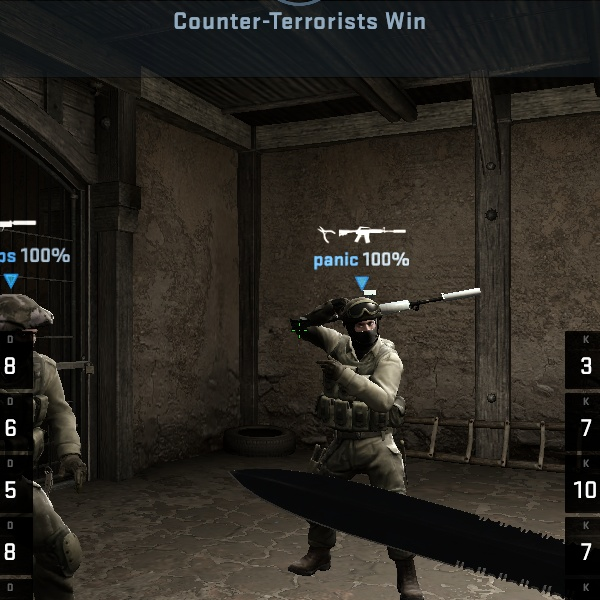ct_body: (286, 281, 432, 591), (2, 281, 122, 600)
ct_head: (0, 287, 62, 373), (315, 287, 389, 357)
